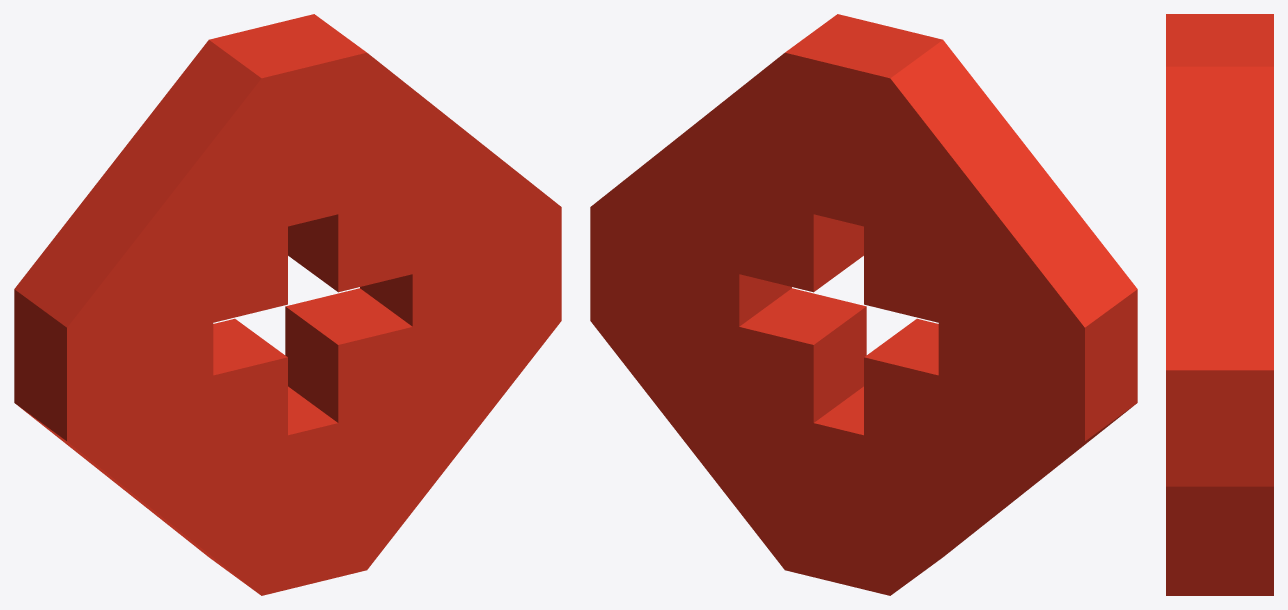
File: Icon_Symbol_Plus_02.fbx
3 renders of one model, left to right at view 1: azimuth 30°, elevation 25°; view 2: azimuth 150°, elevation 25°; view 3: azimuth 270°, elevation 25°, orthographic. The views are drawn at different scales.
Parts seen in each view (by area): view 1: Icon_Symbol_Plus_02; view 2: Icon_Symbol_Plus_02; view 3: Icon_Symbol_Plus_02.
Boxes of the visible parts, x1,y1,x2,y2 form: Icon_Symbol_Plus_02: [14, 14, 561, 595]; Icon_Symbol_Plus_02: [590, 14, 1137, 595]; Icon_Symbol_Plus_02: [1166, 14, 1273, 595].
Bounding box in the file's own units: 65.26 × 65.26 × 12.06.
